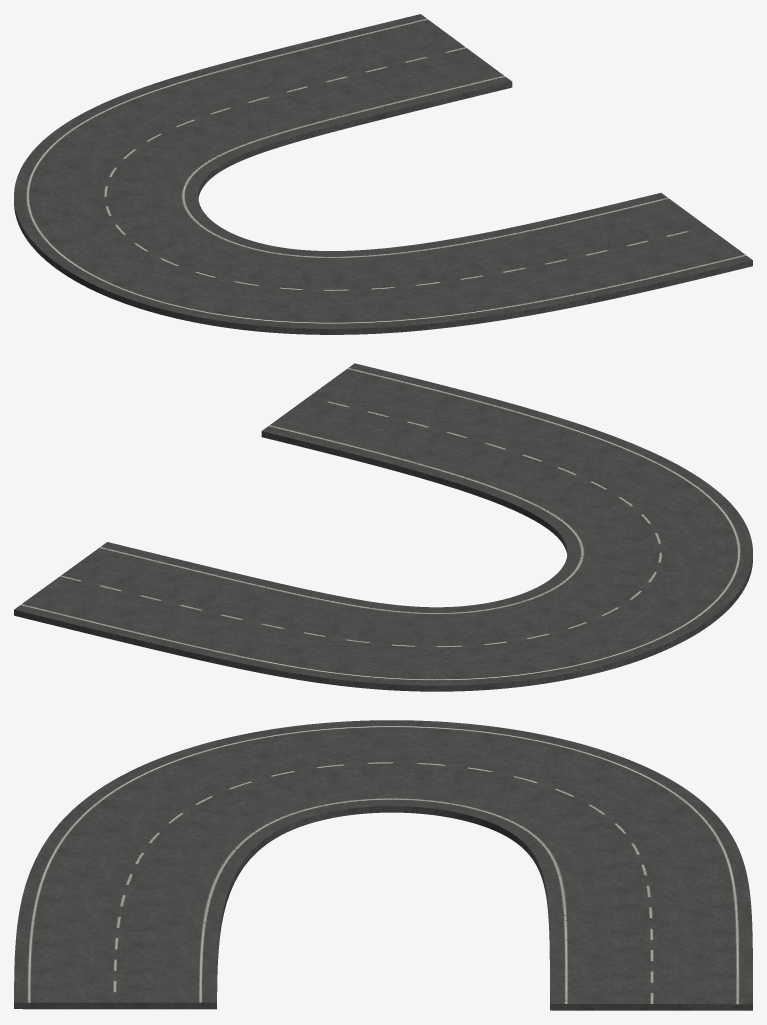
The model's file is VueltaU.fbx.
3 views of the same model, one above another, from view 1: azimuth 30°, elevation 25°; view 2: azimuth 150°, elevation 25°; view 3: azimuth 270°, elevation 25° (orthographic). The views are drawn at different scales.
Parts seen in each view (by area): view 1: Vuelta Izquierda; view 2: Vuelta Izquierda; view 3: Vuelta Izquierda.
Part boxes in pixels (left/top/right/bottom): Vuelta Izquierda: left=14, top=14, right=752, bottom=334; Vuelta Izquierda: left=14, top=363, right=752, bottom=691; Vuelta Izquierda: left=14, top=720, right=752, bottom=1010.
Size of the model in its own units: 662 by 7.15 by 728.
Materials: 1 (1 with a texture image).
